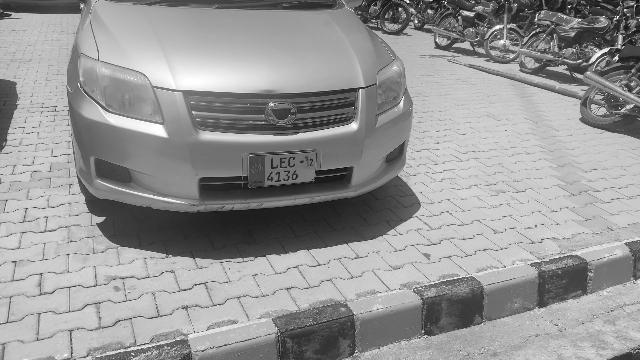Number: (265, 156, 300, 182)
